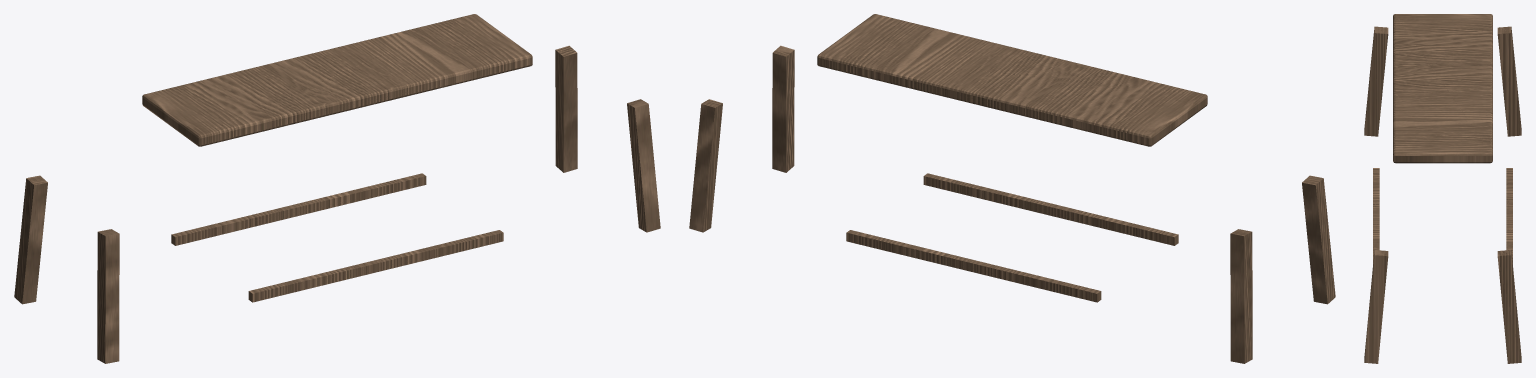
Rendered from bench.fbx.
3 views of the same model, side by side, from view 1: azimuth 30°, elevation 25°; view 2: azimuth 150°, elevation 25°; view 3: azimuth 270°, elevation 25° (orthographic). The views are drawn at different scales.
Visible parts, largest first — view 1: bench; view 2: bench; view 3: bench.
Boxes of the visible parts, x1=… form: bench: x1=14, y1=14, x2=660, y2=363; bench: x1=689, y1=14, x2=1335, y2=363; bench: x1=1364, y1=14, x2=1521, y2=363.
Size of the model in its own units: 0.996 by 0.3262 by 0.2832.
1 material, 1 textured.
